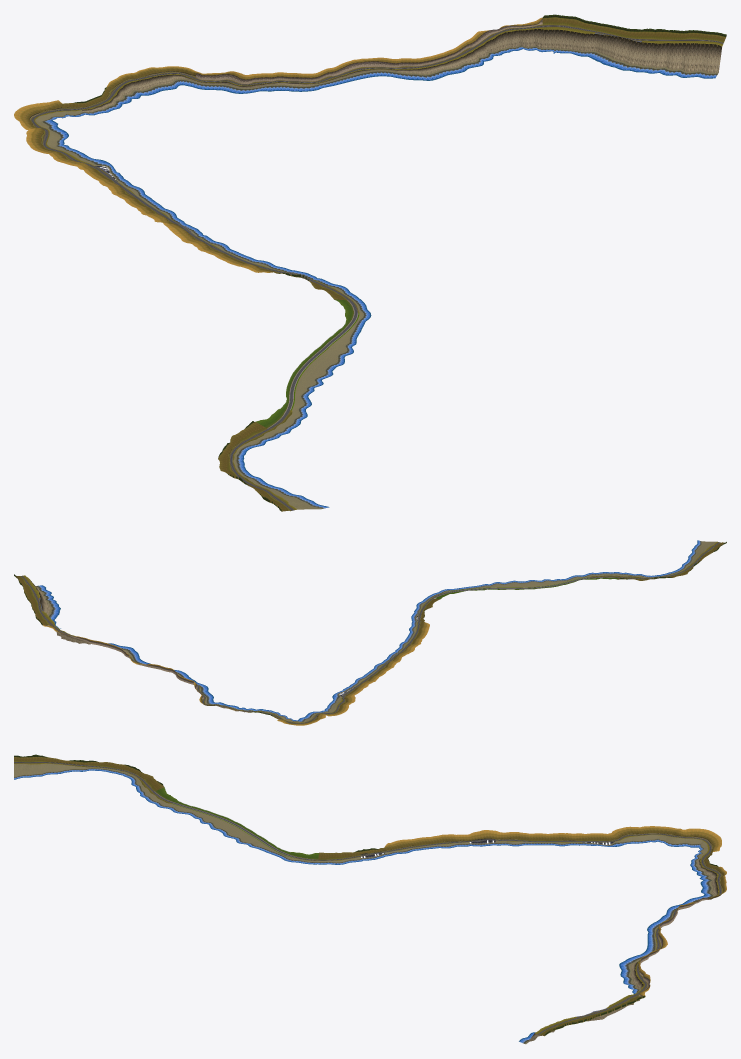
Rendered from course-cl1.glb.
The picture shows the model from 3 angles, top to bottom: view 1: azimuth 30°, elevation 25°; view 2: azimuth 150°, elevation 25°; view 3: azimuth 270°, elevation 25°; orthographic projection. The views are drawn at different scales.
Visible parts, largest first — view 1: course-cl1; view 2: course-cl1; view 3: course-cl1.
Part boxes in pixels (x1,y1,x2,y2): course-cl1: (14,14,726,511); course-cl1: (14,540,726,725); course-cl1: (14,754,726,1044).
Bounding box in the file's own units: 5678 × 174 × 5910.
57 materials, 57 textured.
